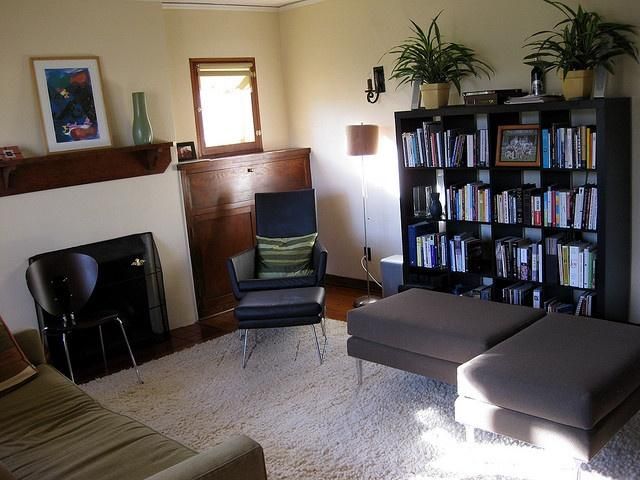Rak: (394, 98, 605, 317)
